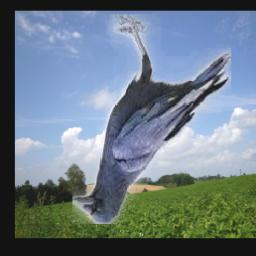Crow: (72, 14, 231, 224)
